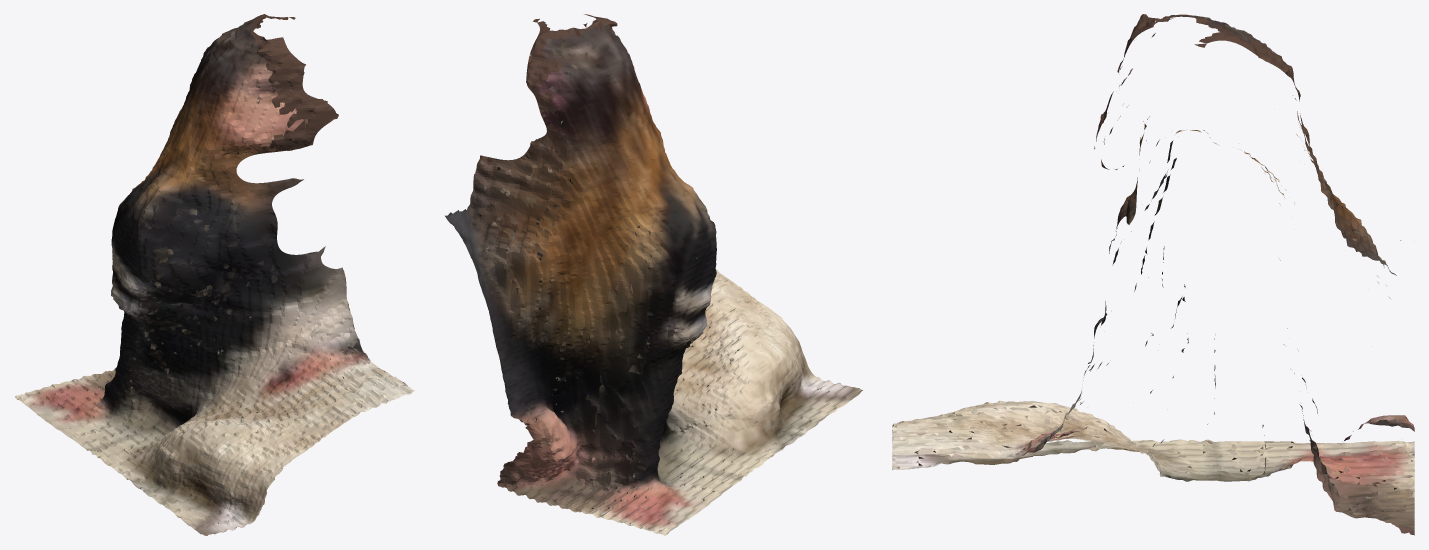
The picture shows the model from 3 angles, left to right: view 1: azimuth 30°, elevation 25°; view 2: azimuth 150°, elevation 25°; view 3: azimuth 270°, elevation 25°; orthographic projection. The views are drawn at different scales.
Size of the model in its own units: 0.4325 by 0.7624 by 0.6774.
Materials: 1 (1 with a texture image).
